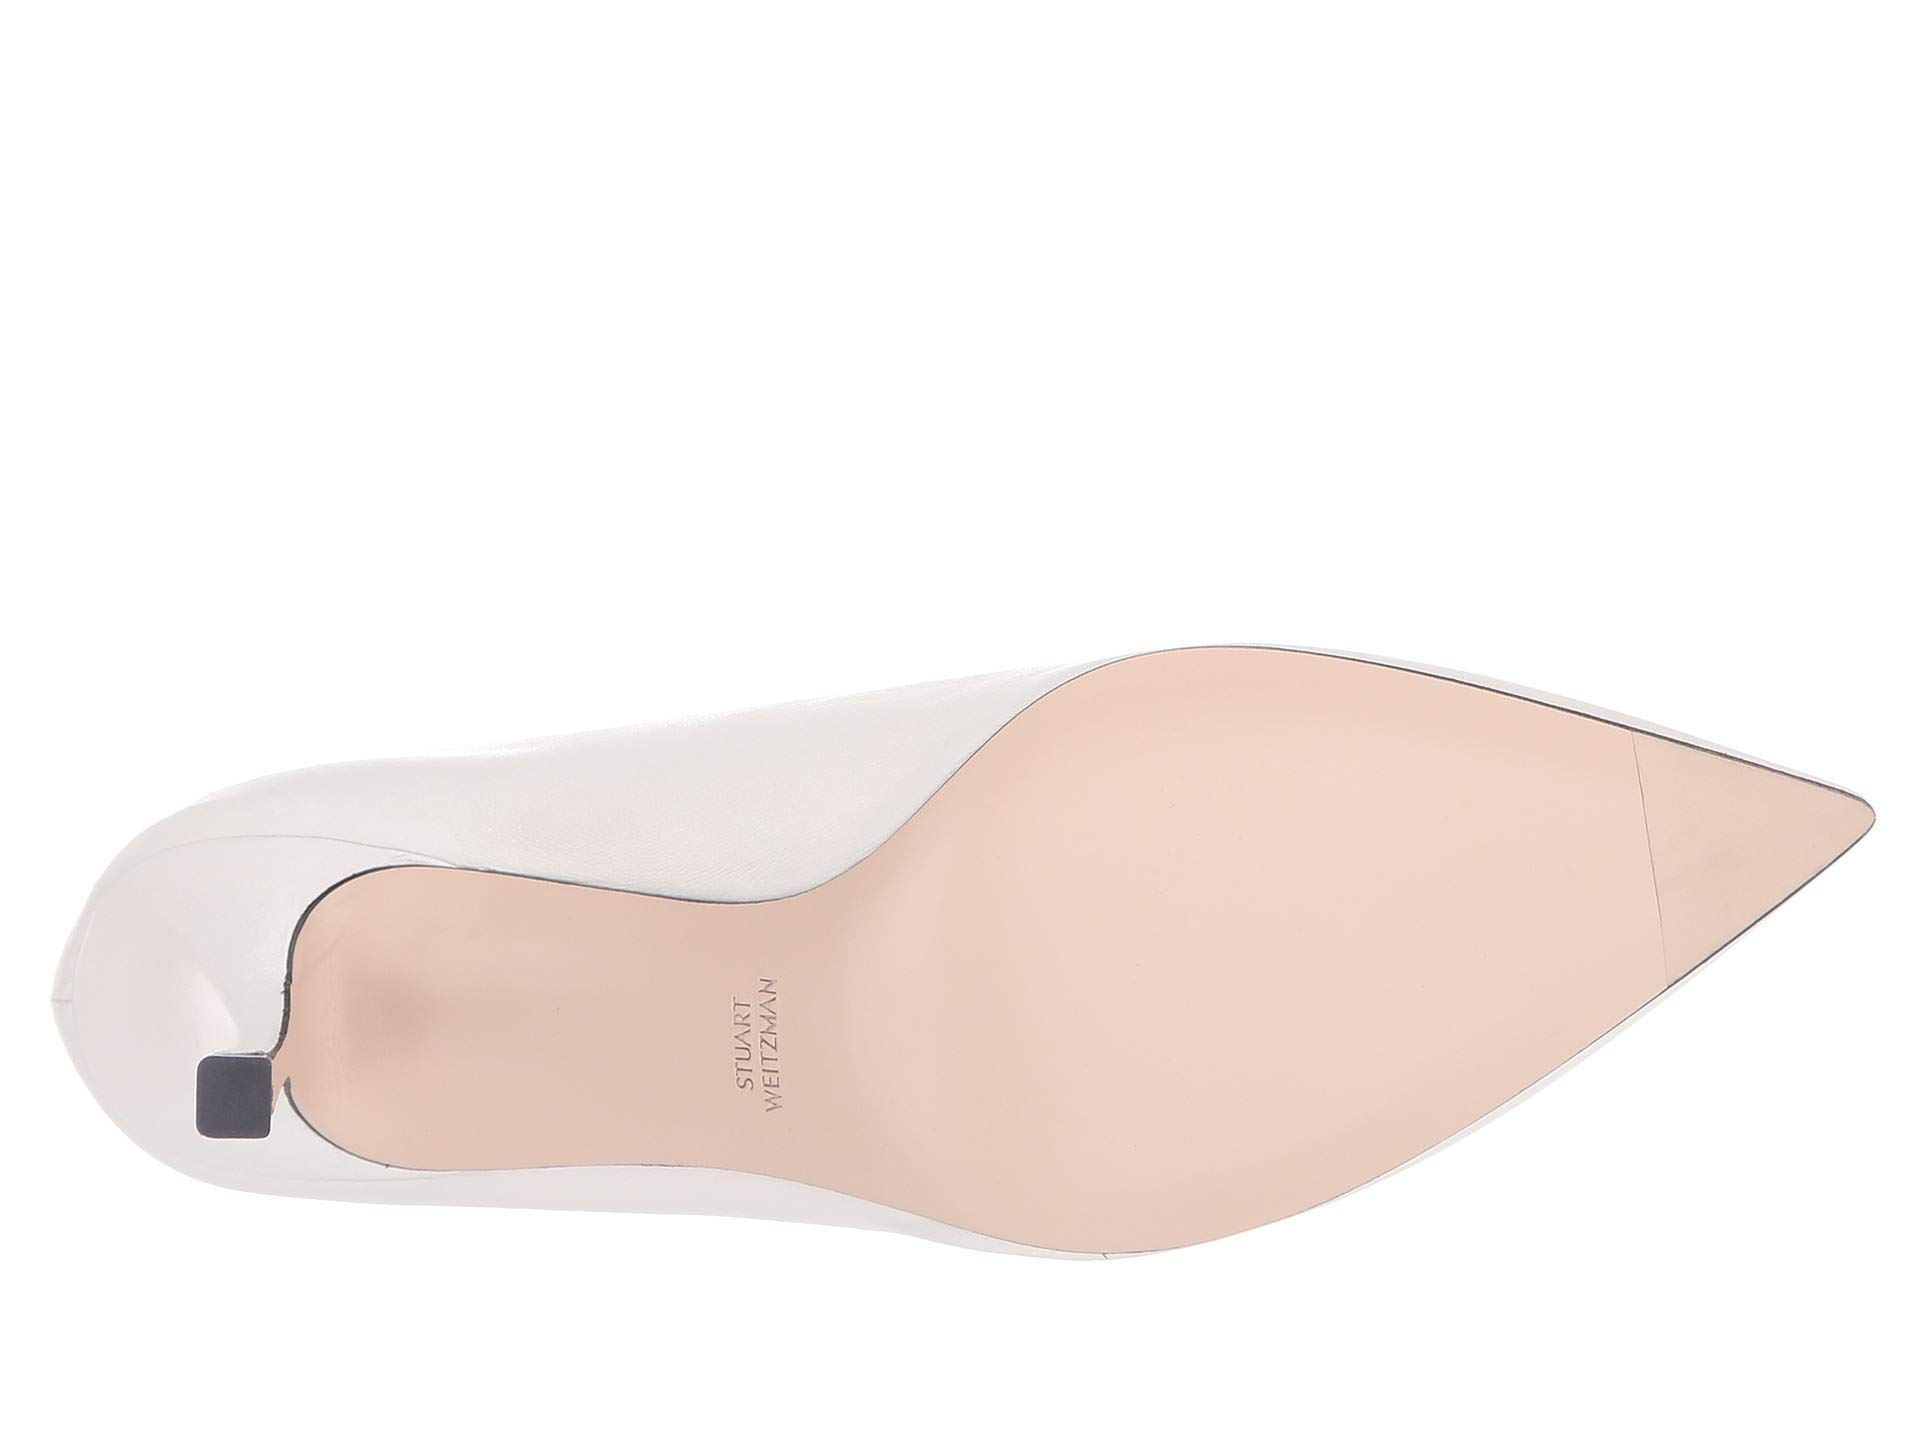line: (1568, 744, 1725, 894)
